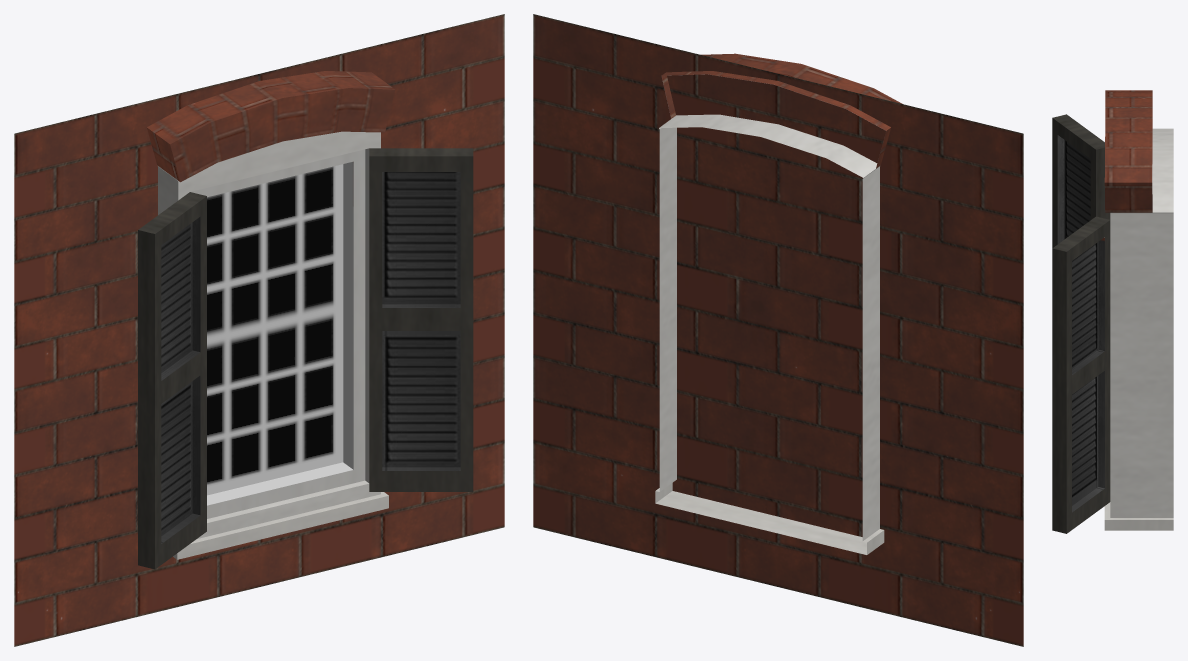
File: BRICK_WINDOW_OPEN_THREE_BY_THREE.fbx
3 renders of one model, left to right at view 1: azimuth 30°, elevation 25°; view 2: azimuth 150°, elevation 25°; view 3: azimuth 270°, elevation 25°, orthographic. The views are drawn at different scales.
Parts seen in each view (by area): view 1: Brick_WINDOW_OPEN_THREE_BY_THREE; view 2: Brick_WINDOW_OPEN_THREE_BY_THREE; view 3: Brick_WINDOW_OPEN_THREE_BY_THREE.
Part boxes in pixels (x1=…): Brick_WINDOW_OPEN_THREE_BY_THREE: x1=14, y1=14, x2=504, y2=646; Brick_WINDOW_OPEN_THREE_BY_THREE: x1=533, y1=14, x2=1023, y2=646; Brick_WINDOW_OPEN_THREE_BY_THREE: x1=1052, y1=90, x2=1173, y2=533.
Bounding box in the file's own units: 3 × 3 × 0.7634.
